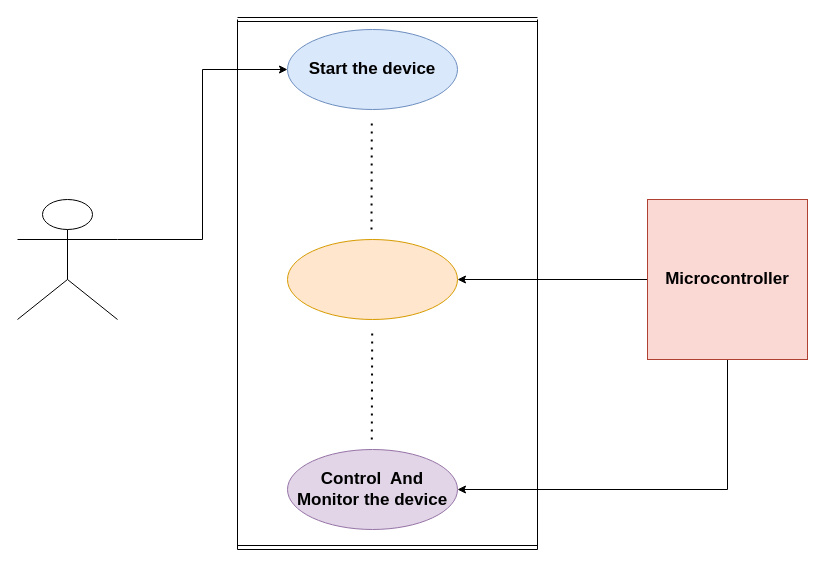
Image size: 825x568. Some labels were removed from this diagram. The shapes that lost their labels are listed below. From the top down, each one's centre as x and y in pixels, then its label:
(x=67, y=259): User
(x=372, y=279): Connect the Device
